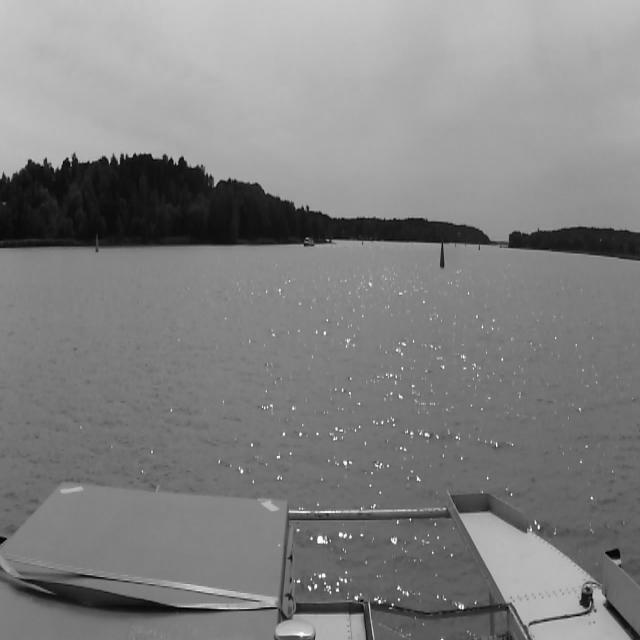buoy: (439, 239, 445, 270), (95, 233, 99, 253), (478, 240, 480, 252), (361, 236, 363, 246)
ship: (303, 236, 315, 248)
